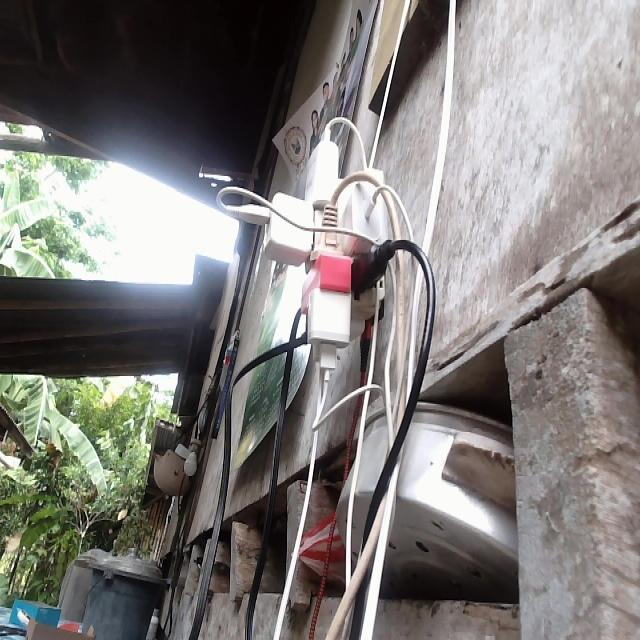-: (229, 115, 409, 376)
